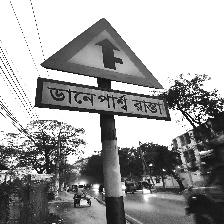Side-road-right: (38, 17, 169, 122)
